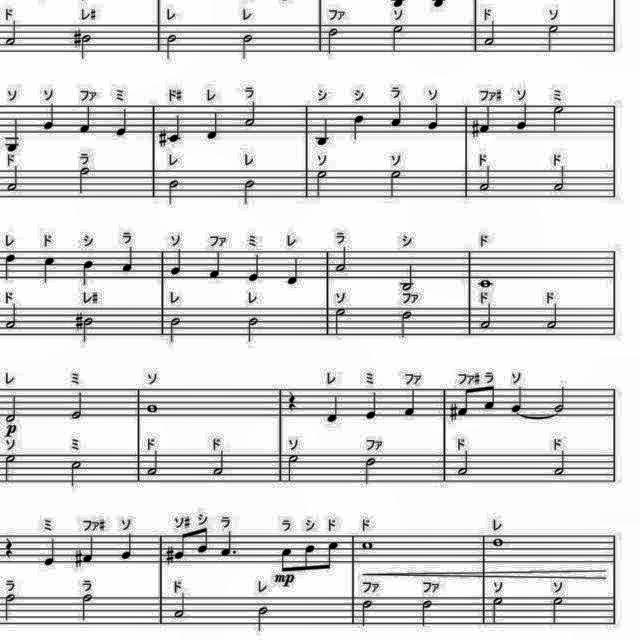Diez: (72, 546, 84, 570), (448, 402, 460, 422), (468, 119, 480, 138), (158, 128, 168, 148), (165, 544, 175, 564), (73, 313, 83, 331)
Eighth-note: (323, 538, 341, 574), (301, 542, 319, 574), (482, 384, 501, 412), (196, 526, 212, 556), (458, 384, 470, 416), (174, 530, 186, 562), (279, 546, 293, 572)
Full-note: (476, 274, 496, 294), (355, 538, 377, 554), (144, 400, 160, 416), (491, 536, 507, 550)
Half-note: (414, 594, 442, 630), (238, 174, 258, 210), (549, 101, 569, 137), (2, 393, 26, 423), (70, 386, 90, 422), (170, 591, 190, 627), (73, 165, 95, 197), (361, 454, 383, 486), (357, 595, 375, 633), (66, 459, 88, 489), (548, 594, 566, 630), (241, 100, 261, 132), (384, 168, 404, 200), (548, 163, 568, 195), (332, 306, 352, 338), (332, 244, 352, 276), (476, 304, 496, 336), (146, 449, 168, 478), (548, 449, 570, 478), (398, 308, 418, 339), (163, 173, 181, 207), (400, 261, 418, 295), (545, 300, 563, 334), (210, 449, 230, 479), (324, 24, 341, 58), (284, 451, 302, 483), (2, 590, 18, 626), (552, 386, 572, 414), (456, 448, 474, 479), (5, 164, 22, 196), (488, 594, 504, 628), (238, 32, 258, 59), (76, 30, 94, 59), (164, 32, 180, 64), (312, 168, 328, 200), (2, 452, 18, 484), (243, 314, 261, 342), (544, 22, 560, 50), (478, 166, 494, 194), (81, 314, 95, 346), (4, 304, 22, 328), (168, 316, 184, 342), (5, 22, 19, 50), (390, 22, 402, 54), (484, 18, 496, 50), (80, 594, 92, 626), (256, 602, 268, 634)
Quarter-dot: (216, 529, 242, 559)
Quarter-note: (2, 115, 26, 154), (81, 530, 101, 570), (167, 245, 189, 279), (514, 100, 534, 136), (284, 255, 304, 291), (314, 114, 334, 150), (324, 391, 344, 427), (39, 532, 59, 568), (478, 100, 496, 138), (510, 382, 530, 416), (206, 248, 227, 280), (113, 108, 133, 140), (425, 101, 445, 133), (40, 254, 60, 286), (205, 108, 222, 144), (245, 250, 262, 286), (166, 114, 184, 146), (78, 103, 94, 137), (44, 102, 60, 134), (120, 529, 136, 561), (349, 113, 366, 143), (78, 256, 96, 284), (402, 389, 418, 419), (389, 100, 405, 128), (3, 252, 17, 284), (120, 246, 136, 274), (365, 389, 379, 421)
Quarter-rest: (282, 384, 300, 416), (2, 535, 18, 563)
